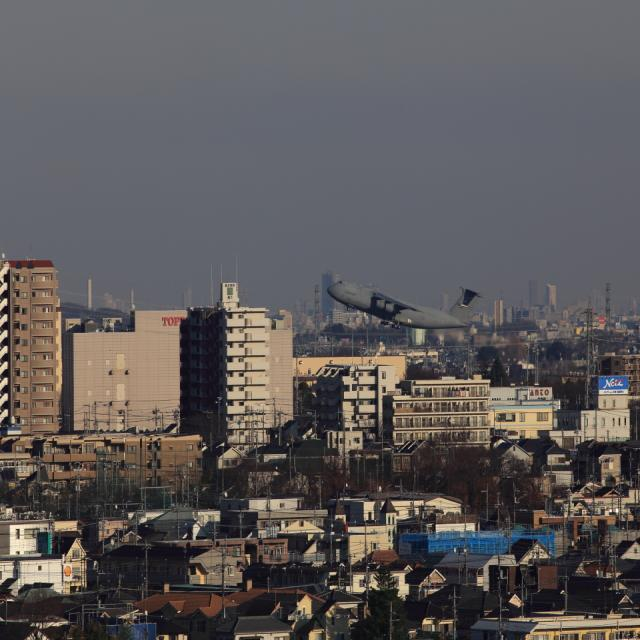MIL_Plane: (327, 279, 484, 330)
